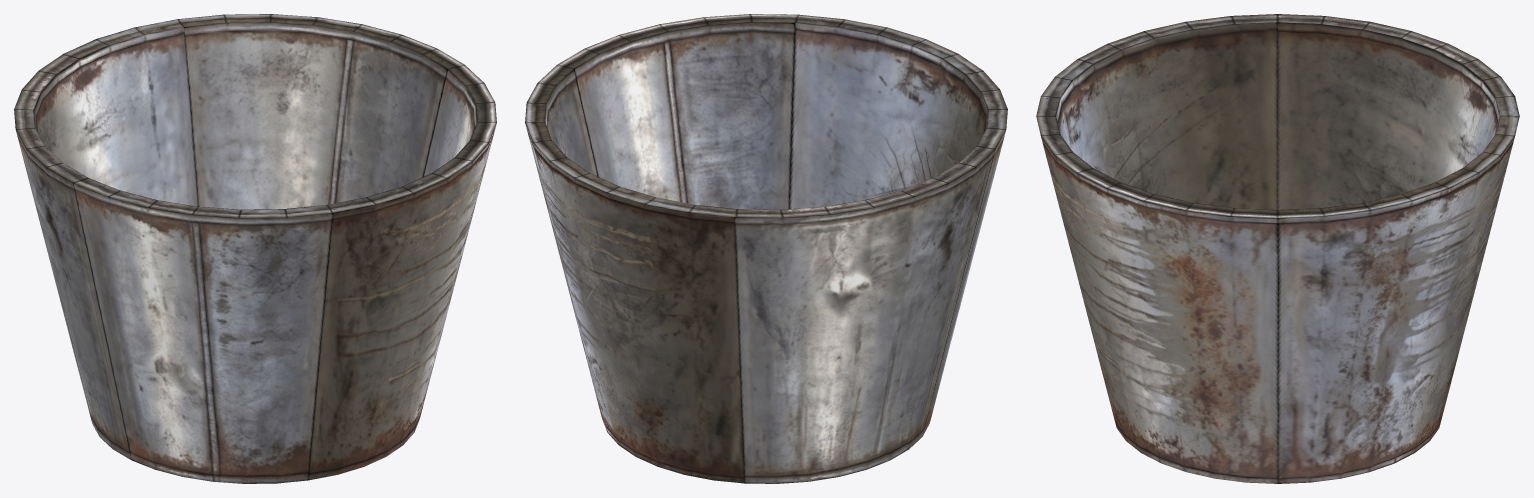
Rendered from rusty_bucket.glb.
3 renders of one model, left to right at view 1: azimuth 30°, elevation 25°; view 2: azimuth 150°, elevation 25°; view 3: azimuth 270°, elevation 25°, orthographic.
Visible parts, largest first — view 1: Cylinder; view 2: Cylinder; view 3: Cylinder.
Boxes of the visible parts, <box> form: Cylinder: <box>14,14,496,483</box>; Cylinder: <box>525,14,1007,483</box>; Cylinder: <box>1036,14,1519,483</box>.
Bounding box in the file's own units: 1.92 × 1.31 × 1.92.
Materials: 1 (1 with a texture image).
